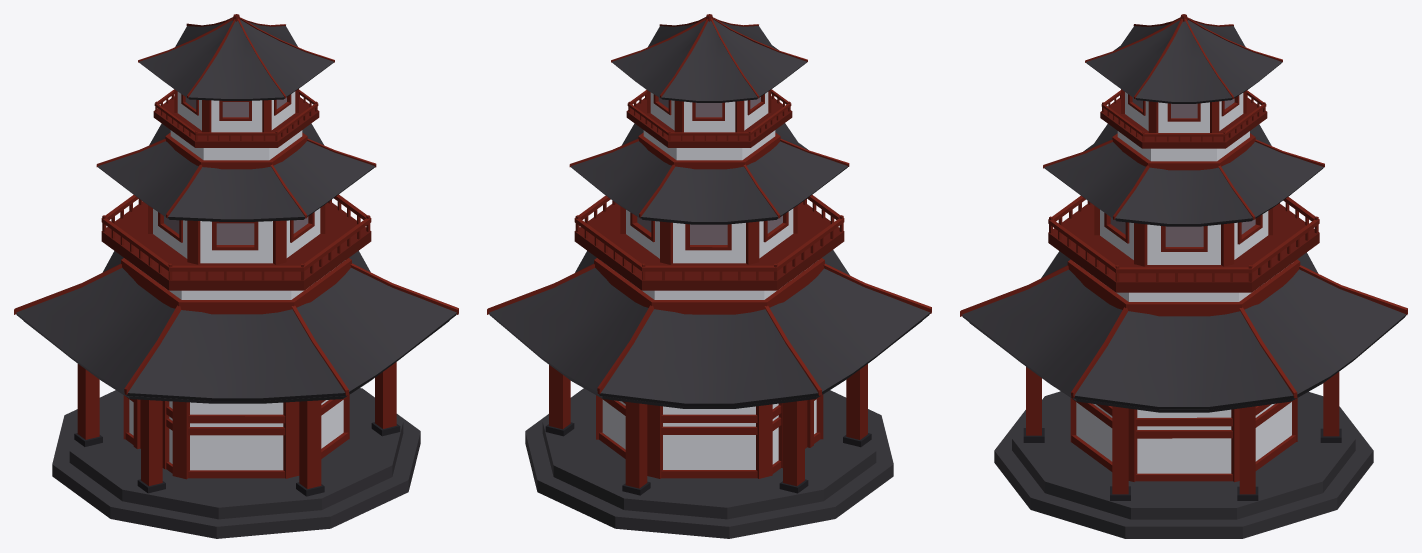
File: houme013.fbx
3 views of the same model, side by side, from view 1: azimuth 30°, elevation 25°; view 2: azimuth 150°, elevation 25°; view 3: azimuth 270°, elevation 25° (orthographic).
Parts seen in each view (by area): view 1: houme_13, foundation_13_1; view 2: houme_13, foundation_13_1; view 3: houme_13, foundation_13_1.
Boxes of the visible parts, x1,y1,x2,y2 form: houme_13: (14, 14, 458, 496); foundation_13_1: (52, 388, 420, 538); houme_13: (487, 14, 931, 495); foundation_13_1: (525, 388, 893, 538); houme_13: (960, 14, 1407, 500); foundation_13_1: (994, 391, 1373, 538).
Size of the model in its own units: 2369 by 3001 by 2723.
